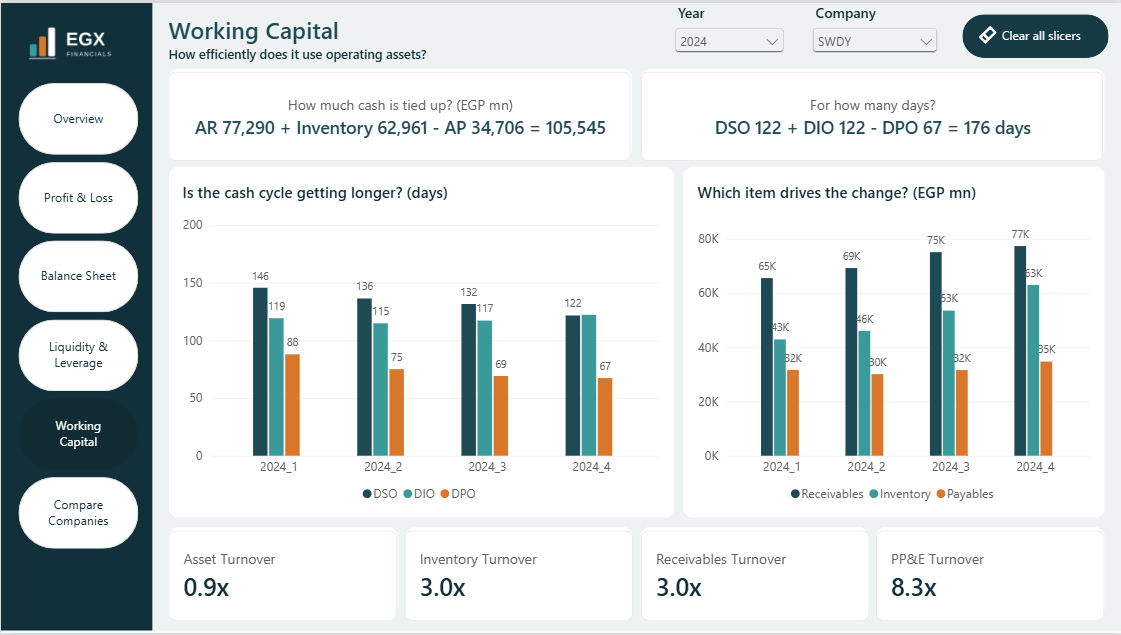

What the dashboard file says about the page in this screenshot:
{"tool":"powerbi","page":{"name":"Working Capital","canvas":[1280,720],"ordinal":4},"visuals":[{"type":"slicer","fields":{"Values":["DimCalendar.Year"]},"box":[765,0,133.8,75],"z":0},{"type":"slicer","fields":{"Values":["DimCompany.Company"]},"box":[922.5,0,152.5,75],"z":1000},{"type":"actionButton","box":[1098.8,12.5,167.5,50],"z":2000},{"type":"pageNavigator","box":[20,91.2,137.5,537.5],"z":3000},{"type":"image","box":[24,14,125,60],"z":4000},{"type":"textbox","box":[192,12.5,560,56],"z":5000}]}

Visuals, with their boxes in screenshot pixels (x1, y1, x2, y2), scaled from the page's 1280x720 canvas onto the 1121x635 screenshot:
slicer - DimCalendar.Year: {"left": 670, "top": 0, "right": 787, "bottom": 66}
slicer - DimCompany.Company: {"left": 808, "top": 0, "right": 941, "bottom": 66}
actionButton: {"left": 962, "top": 11, "right": 1109, "bottom": 55}
pageNavigator: {"left": 18, "top": 80, "right": 138, "bottom": 554}
image: {"left": 21, "top": 12, "right": 130, "bottom": 65}
textbox: {"left": 168, "top": 11, "right": 659, "bottom": 60}
